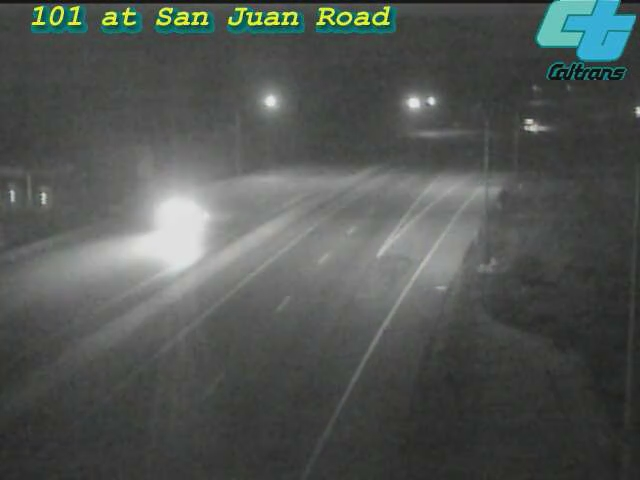vehicle: (134, 178, 214, 258), (514, 99, 564, 149)
